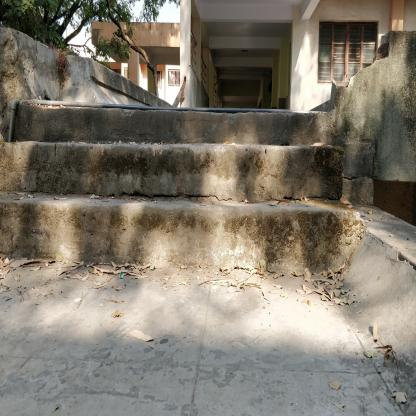stairs: (15, 104, 329, 279)
